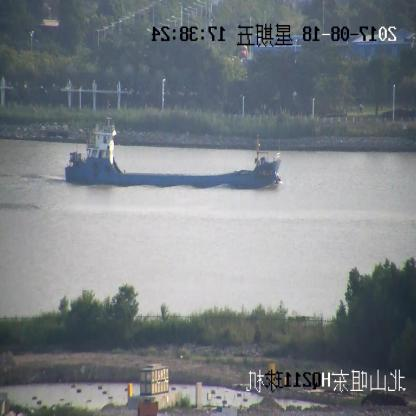Bulk Carrier: (64, 105, 282, 187)
